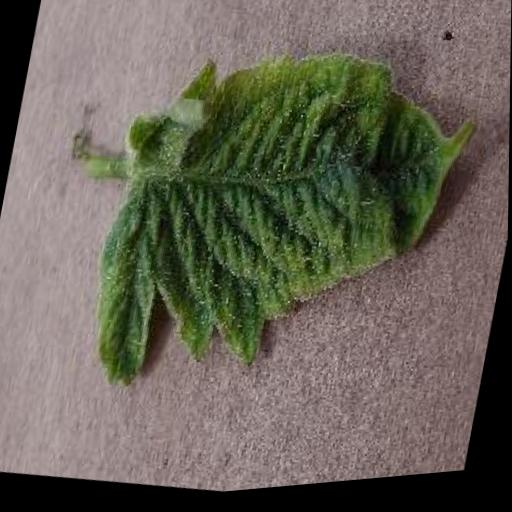Yellow Leaf Curl Virus: (74, 12, 494, 446)
